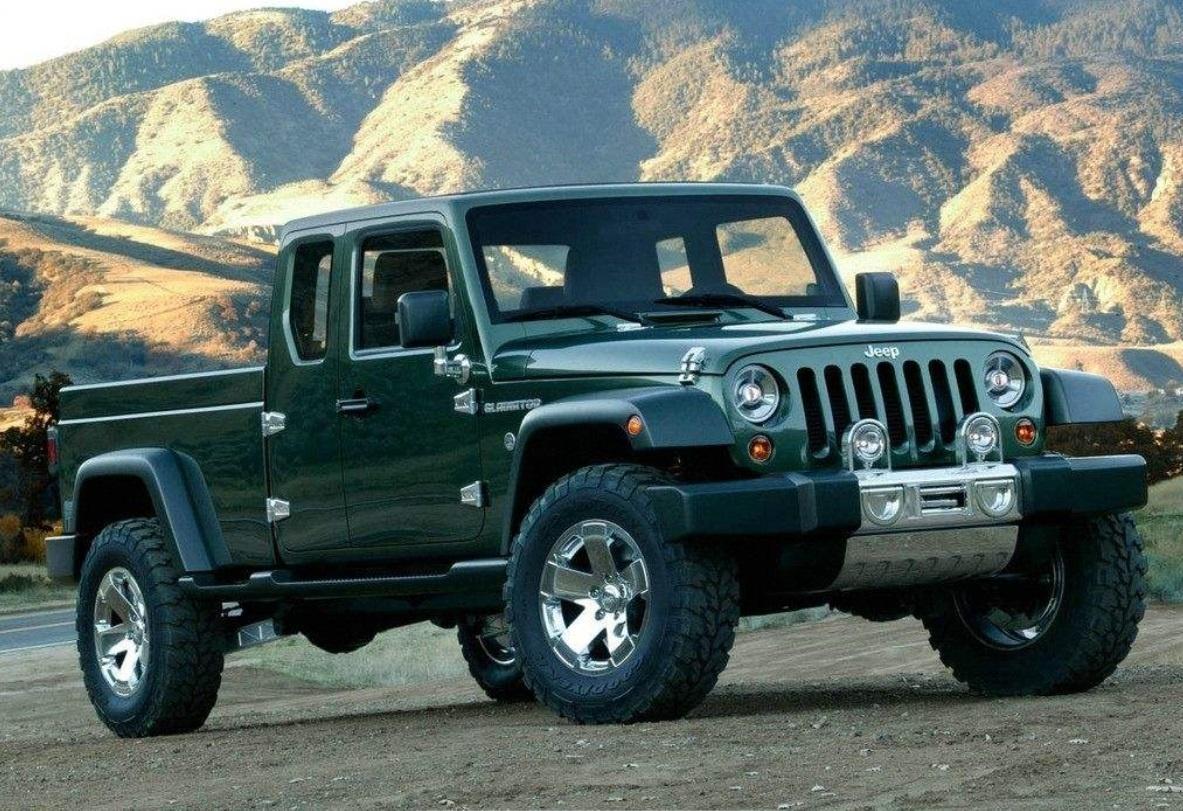jeep: (50, 180, 1151, 733)
